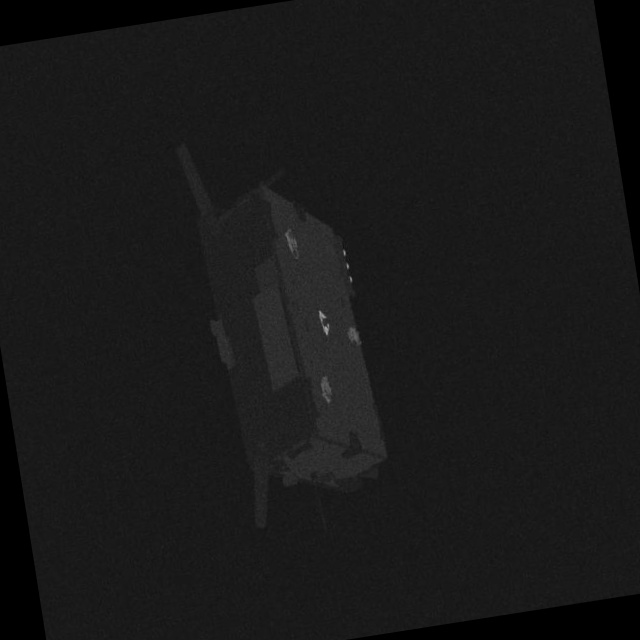medium_debris: (156, 122, 406, 539)
